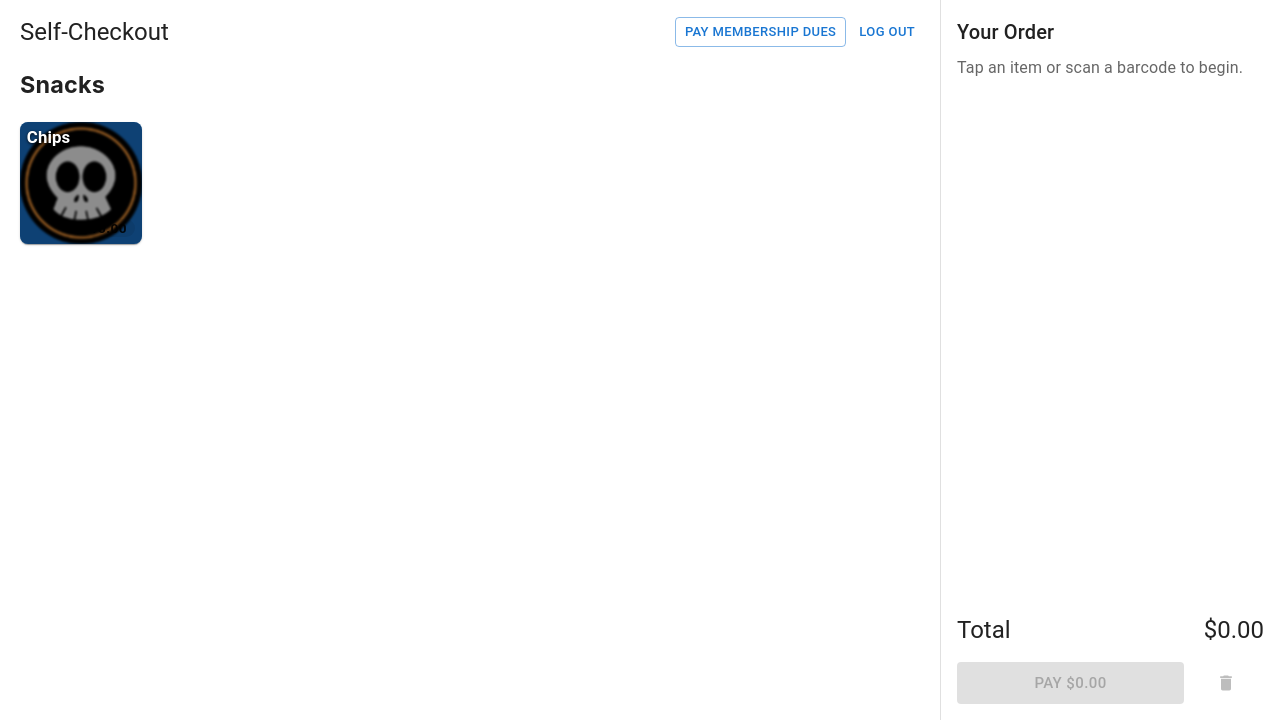
Test: self-checkout card payment › a real charge failure still surfaces as a decline rather than a silent stall
Click the button "Chips $10.00" at (81, 183), box x1=20 y1=122 x2=142 y2=244
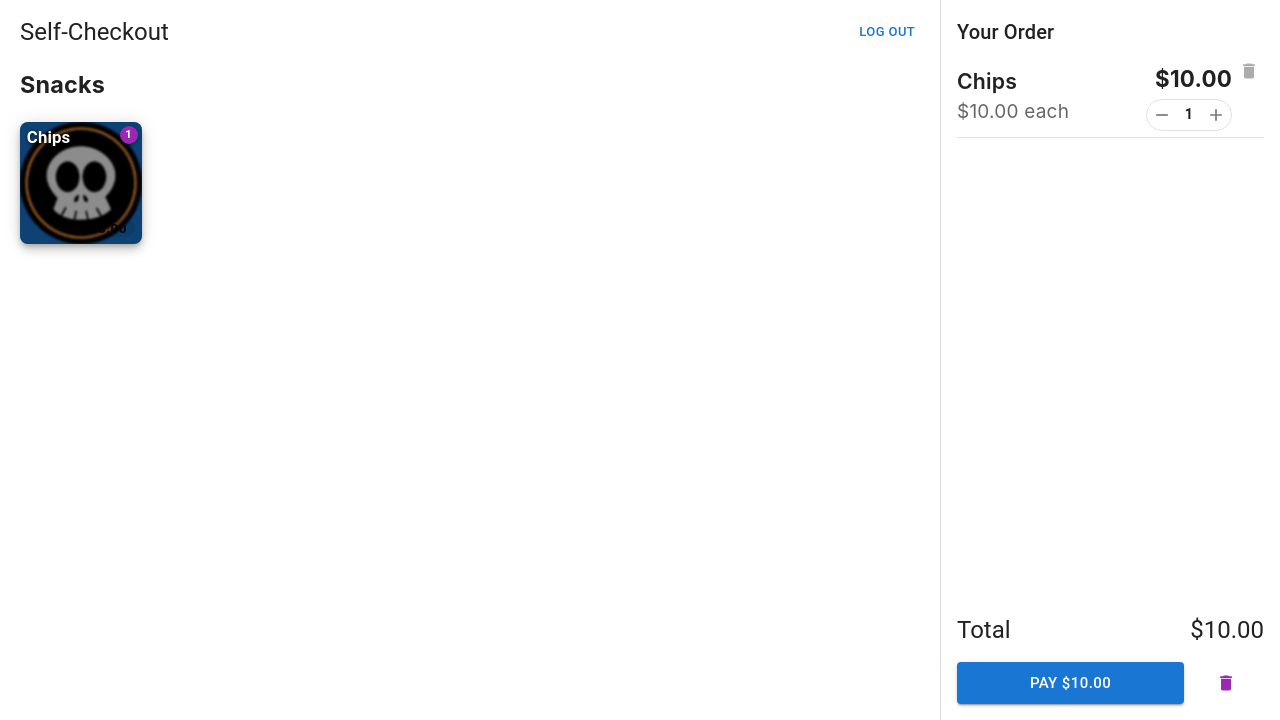
Click the button "Pay $10.00" at (1071, 683), box x1=957 y1=662 x2=1184 y2=704
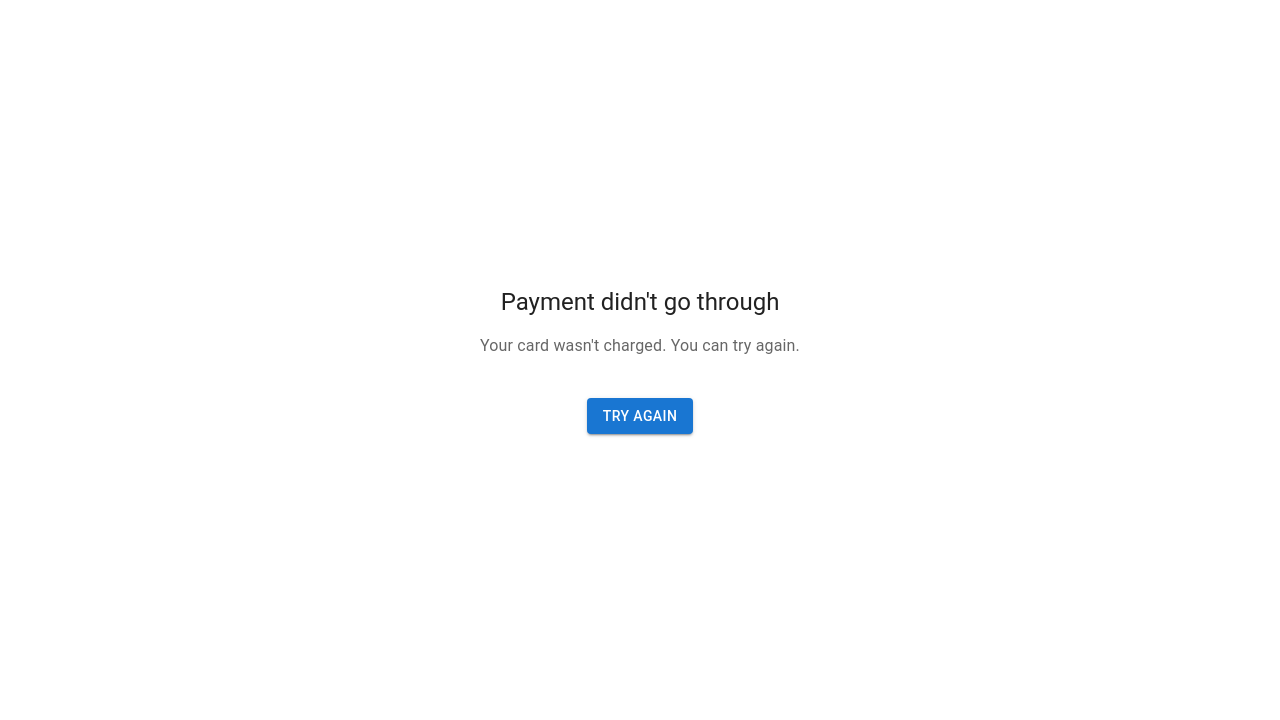
expect the heading "Payment didn't go through" is shown: met, box x1=501 y1=286 x2=779 y2=318
